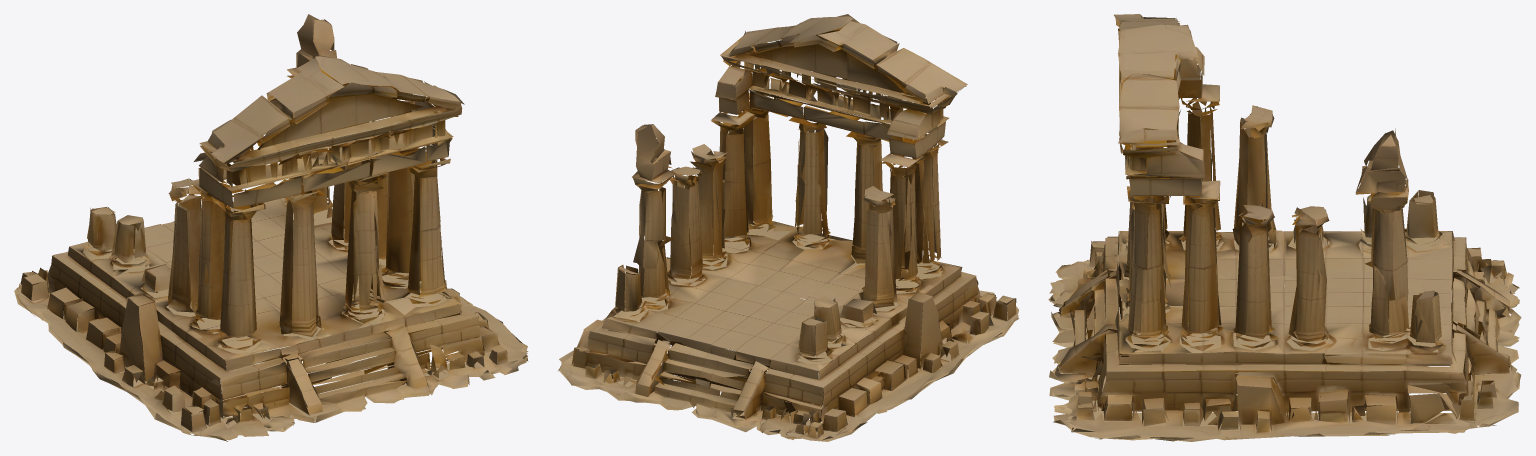
Rendered from ancient-greek-ruins.glb.
3 views of the same model, side by side, from view 1: azimuth 30°, elevation 25°; view 2: azimuth 150°, elevation 25°; view 3: azimuth 270°, elevation 25° (orthographic). The views are drawn at different scales.
Visible parts, largest first — view 1: node_0; view 2: node_0; view 3: node_0.
Boxes of the visible parts, x1,y1,x2,y2 form: node_0: [14, 14, 528, 441]; node_0: [558, 14, 1018, 441]; node_0: [1048, 14, 1521, 441].
Size of the model in its own units: 12.3 by 10.14 by 13.23.
1 material, 1 textured.
